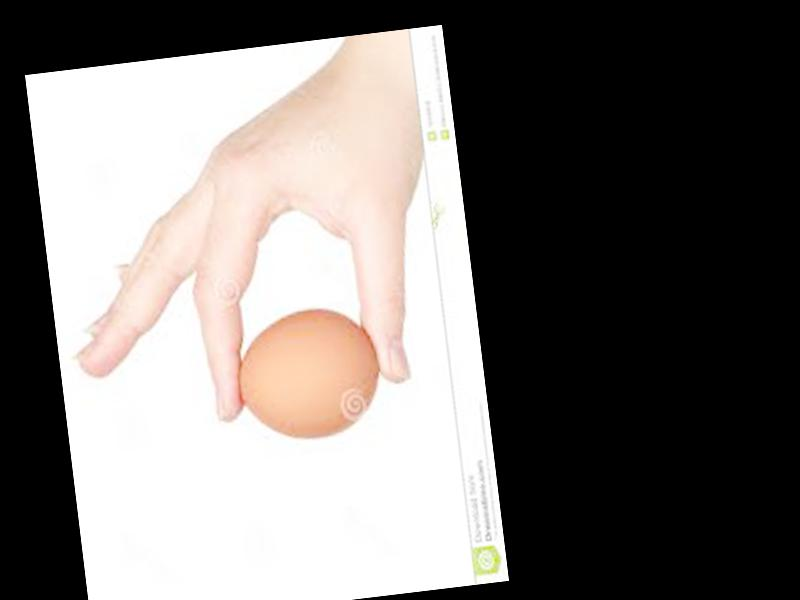Eggs: (230, 299, 388, 448)
